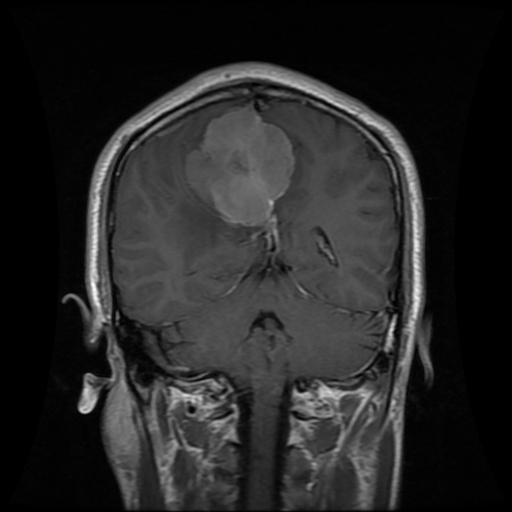meningioma: (187, 105, 295, 227)
